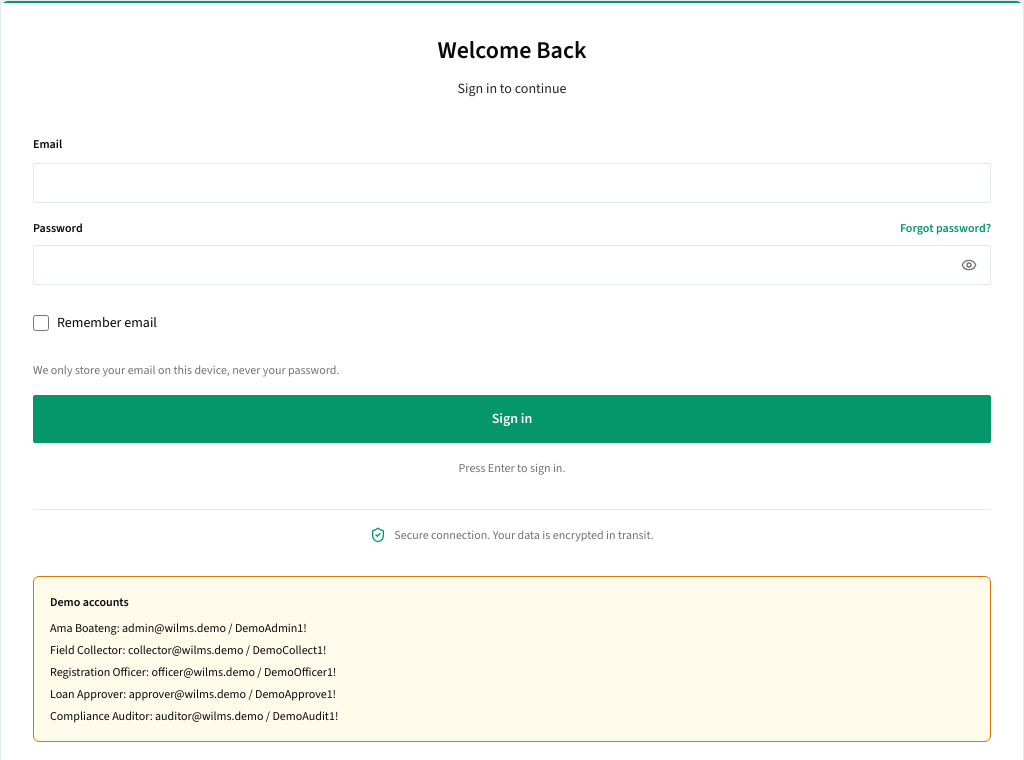
LoginForm › shows field validation errors for invalid input
The width and height of the screenshot is (1024, 760).
Type "not-an-email" into the field labelled "Email" at (512, 183), box x1=33 y1=163 x2=991 y2=203
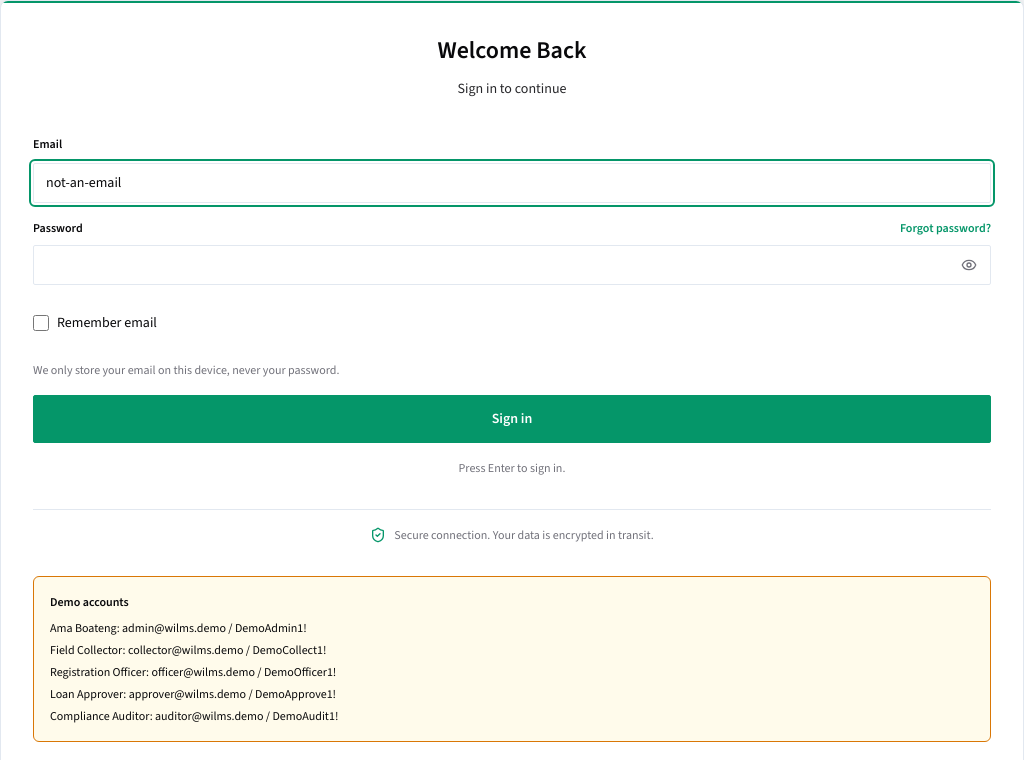
Click the button "Sign in" at (512, 419), box x1=33 y1=395 x2=991 y2=443
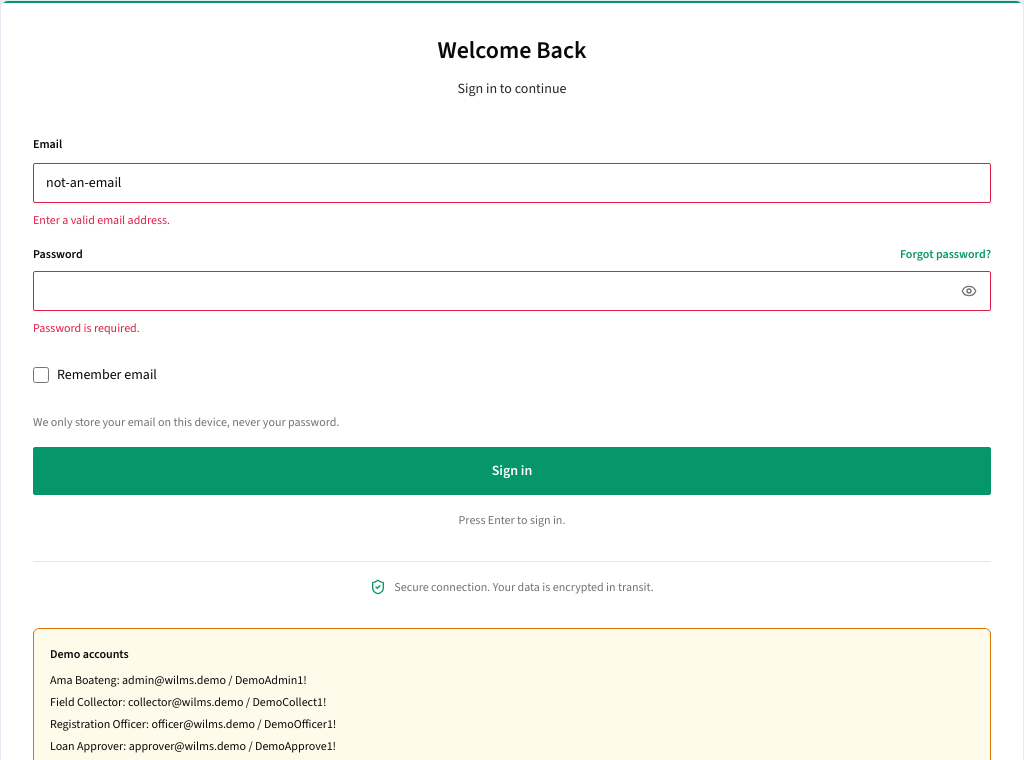
Expected: the text "Enter a valid email address." is shown, x1=33 y1=212 x2=170 y2=228
